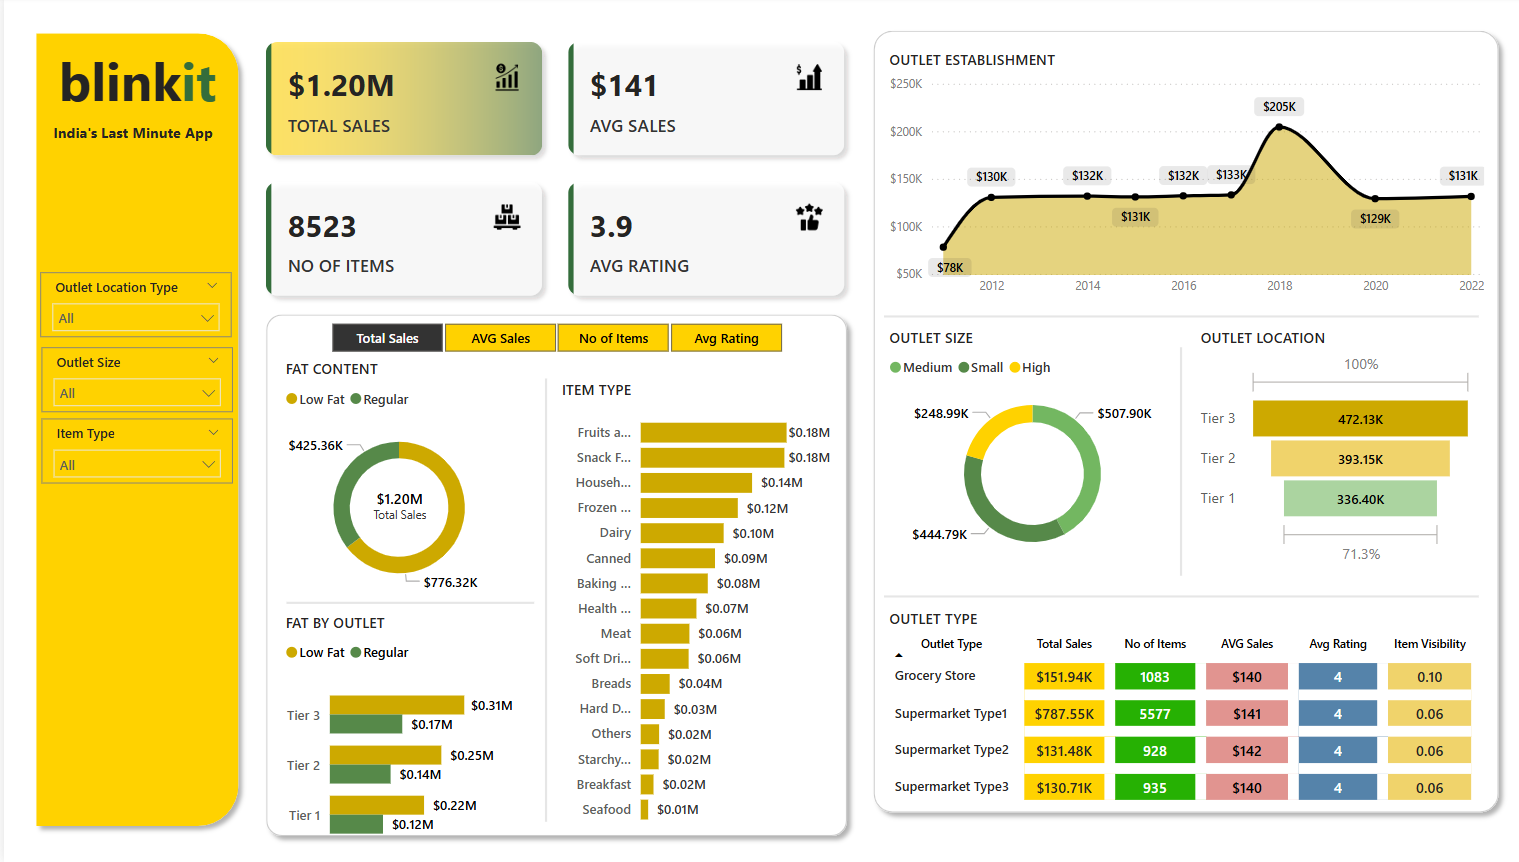

Layout of this report page (visuals, bound fields, positions):
{"tool":"powerbi","page":{"name":"Page 1","canvas":[1400,800],"ordinal":0},"visuals":[{"type":"shape","box":[20.3,25.4,204.8,750.4],"z":0},{"type":"textbox","box":[36.9,40.7,173,81.4],"z":1000},{"type":"textbox","box":[40.4,112,170.9,33.5],"z":2000},{"type":"cardVisual","fields":{"Data":["BlinkIT Grocery Data.Total Sales","BlinkIT Grocery Data.AVG Sales","BlinkIT Grocery Data.No of Items","BlinkIT Grocery Data.Avg Rating"]},"box":[225.1,25.4,569.8,269.6],"z":3000},{"type":"shape","box":[232.7,284.9,554.5,499.8],"z":4000},{"type":"donutChart","title":"FAT CONTENT","fields":{"Y":["BlinkIT Grocery Data.Total Sales"],"Category":["BlinkIT Grocery Data.Item Fat Content"]},"box":[255.6,334.5,220,230.2],"z":5000},{"type":"slicer","fields":{"Values":["Metrics.Metrics"]},"box":[277.3,295.1,465.5,39.4],"z":6000},{"type":"cardVisual","fields":{"Data":["BlinkIT Grocery Data.Total Sales"]},"box":[314.1,437.5,103,64.9],"z":7000},{"type":"clusteredBarChart","title":"FAT BY OUTLET","fields":{"Y":["BlinkIT Grocery Data.Total Sales"],"Category":["BlinkIT Grocery Data.Outlet Location Type"],"Series":["BlinkIT Grocery Data.Item Fat Content"]},"box":[255.6,569.8,220,230.2],"z":8000},{"type":"shape","box":[260.7,535.4,228.9,49.6],"z":9000},{"type":"shape","box":[480.7,353.6,40.7,409.5],"z":10000},{"type":"barChart","title":"ITEM TYPE","fields":{"Y":["BlinkIT Grocery Data.Total Sales"],"Category":["BlinkIT Grocery Data.Item Type"]},"box":[510,354.8,258.2,421],"z":11000},{"type":"shape","box":[794.9,22.9,595.2,740.2],"z":12000},{"type":"lineChart","title":"OUTLET ESTABLISHMENT","fields":{"Y":["BlinkIT Grocery Data.Total Sales"],"Category":["BlinkIT Grocery Data.Outlet Establishment Year"]},"box":[812.7,49.6,559.6,235.3],"z":13000},{"type":"shape","box":[812.7,284.9,549.4,21.6],"z":14000},{"type":"donutChart","title":"OUTLET SIZE","fields":{"Y":["BlinkIT Grocery Data.Total Sales"],"Category":["BlinkIT Grocery Data.Outlet Size"]},"box":[812.7,306.5,274.7,225.1],"z":15000},{"type":"shape","box":[1067,324.3,40.7,211.1],"z":16000},{"type":"funnel","title":"OUTLET LOCATION","fields":{"Category":["BlinkIT Grocery Data.Outlet Location Type"],"Y":["Sum(BlinkIT Grocery Data.Sales)"]},"box":[1100.1,306.5,262,225.1],"z":17000},{"type":"shape","box":[812.7,544.3,549.4,21.6],"z":18000},{"type":"pivotTable","title":"OUTLET TYPE","fields":{"Rows":["BlinkIT Grocery Data.Outlet Type"],"Values":["BlinkIT Grocery Data.Total Sales","BlinkIT Grocery Data.No of Items","BlinkIT Grocery Data.AVG Sales","BlinkIT Grocery Data.Avg Rating","Avg(BlinkIT Grocery Data.Item Visibility)"]},"box":[812.7,566,559.6,183.1],"z":19000},{"type":"slicer","fields":{"Values":["BlinkIT Grocery Data.Outlet Location Type"]},"box":[33.1,255.6,176.8,59.8],"z":20000},{"type":"slicer","fields":{"Values":["BlinkIT Grocery Data.Outlet Size"]},"box":[34.3,324.3,176.8,59.8],"z":21000},{"type":"slicer","fields":{"Values":["BlinkIT Grocery Data.Item Type"]},"box":[34.3,390.4,176.8,59.8],"z":22000}]}

Visuals, with their boxes in screenshot pixels (x1, y1, x2, y2), scaled from the page's 1400x800 canvas onto the 1519x862 screenshot:
shape: x1=22 y1=27 x2=244 y2=836
textbox: x1=40 y1=44 x2=228 y2=132
textbox: x1=44 y1=121 x2=229 y2=157
cardVisual - BlinkIT Grocery Data.Total Sales x BlinkIT Grocery Data.AVG Sales: x1=244 y1=27 x2=862 y2=318
shape: x1=252 y1=307 x2=854 y2=846
"FAT CONTENT" donutChart: x1=277 y1=360 x2=516 y2=608
slicer - Metrics.Metrics: x1=301 y1=318 x2=806 y2=360
cardVisual - BlinkIT Grocery Data.Total Sales: x1=341 y1=471 x2=453 y2=541
"FAT BY OUTLET" clusteredBarChart: x1=277 y1=614 x2=516 y2=861
shape: x1=283 y1=577 x2=531 y2=630
shape: x1=522 y1=381 x2=566 y2=822
"ITEM TYPE" barChart: x1=553 y1=382 x2=833 y2=836
shape: x1=862 y1=25 x2=1508 y2=822
"OUTLET ESTABLISHMENT" lineChart: x1=882 y1=53 x2=1489 y2=307
shape: x1=882 y1=307 x2=1478 y2=330
"OUTLET SIZE" donutChart: x1=882 y1=330 x2=1180 y2=573
shape: x1=1158 y1=349 x2=1202 y2=577
"OUTLET LOCATION" funnel: x1=1194 y1=330 x2=1478 y2=573
shape: x1=882 y1=586 x2=1478 y2=610
"OUTLET TYPE" pivotTable: x1=882 y1=610 x2=1489 y2=807
slicer - BlinkIT Grocery Data.Outlet Location Type: x1=36 y1=275 x2=228 y2=340
slicer - BlinkIT Grocery Data.Outlet Size: x1=37 y1=349 x2=229 y2=414
slicer - BlinkIT Grocery Data.Item Type: x1=37 y1=421 x2=229 y2=485
